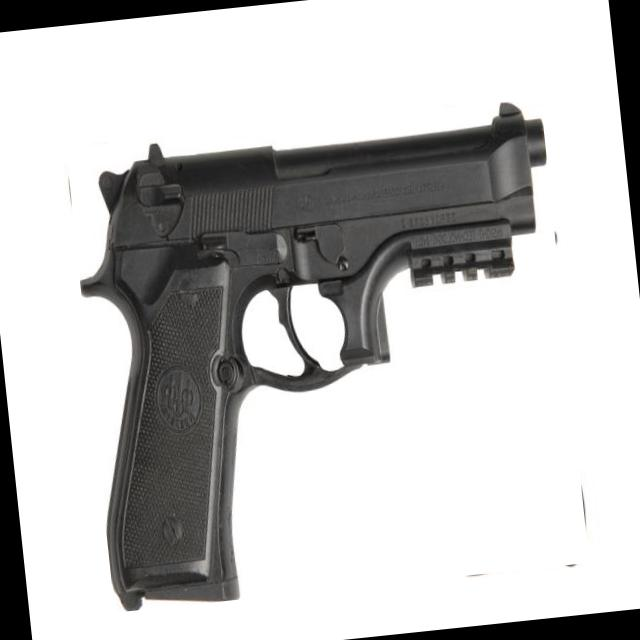Gun: (80, 102, 546, 608)
